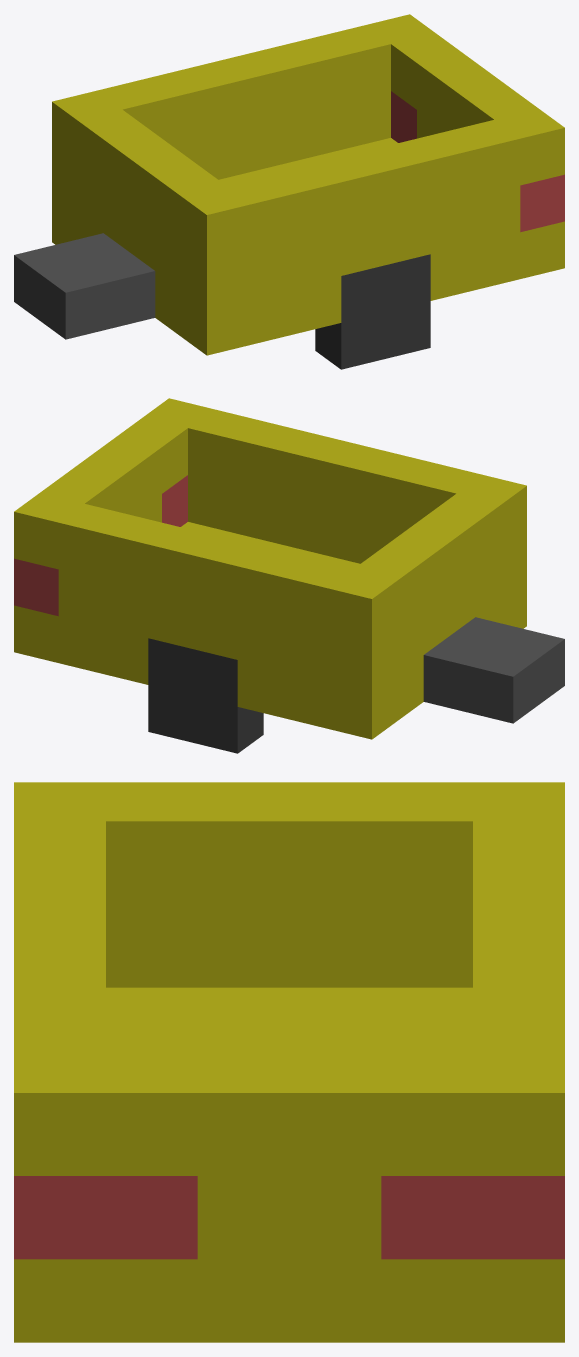
The model's file is car-trailer-v1-yellow.gltf.
The picture shows the model from 3 angles, top to bottom: view 1: azimuth 30°, elevation 25°; view 2: azimuth 150°, elevation 25°; view 3: azimuth 270°, elevation 25°; orthographic projection. The views are drawn at different scales.
Visible parts, largest first — view 1: model, wheels; view 2: model, wheels; view 3: model.
Part boxes in pixels (x1,y1,x2,y2): model: (14,14,564,355); wheels: (315,254,430,369); model: (14,398,564,739); wheels: (148,638,263,753); model: (14,782,564,1342).
Size of the model in its own units: 1 by 0.4 by 0.6.
Materials: 2 (2 with a texture image).
